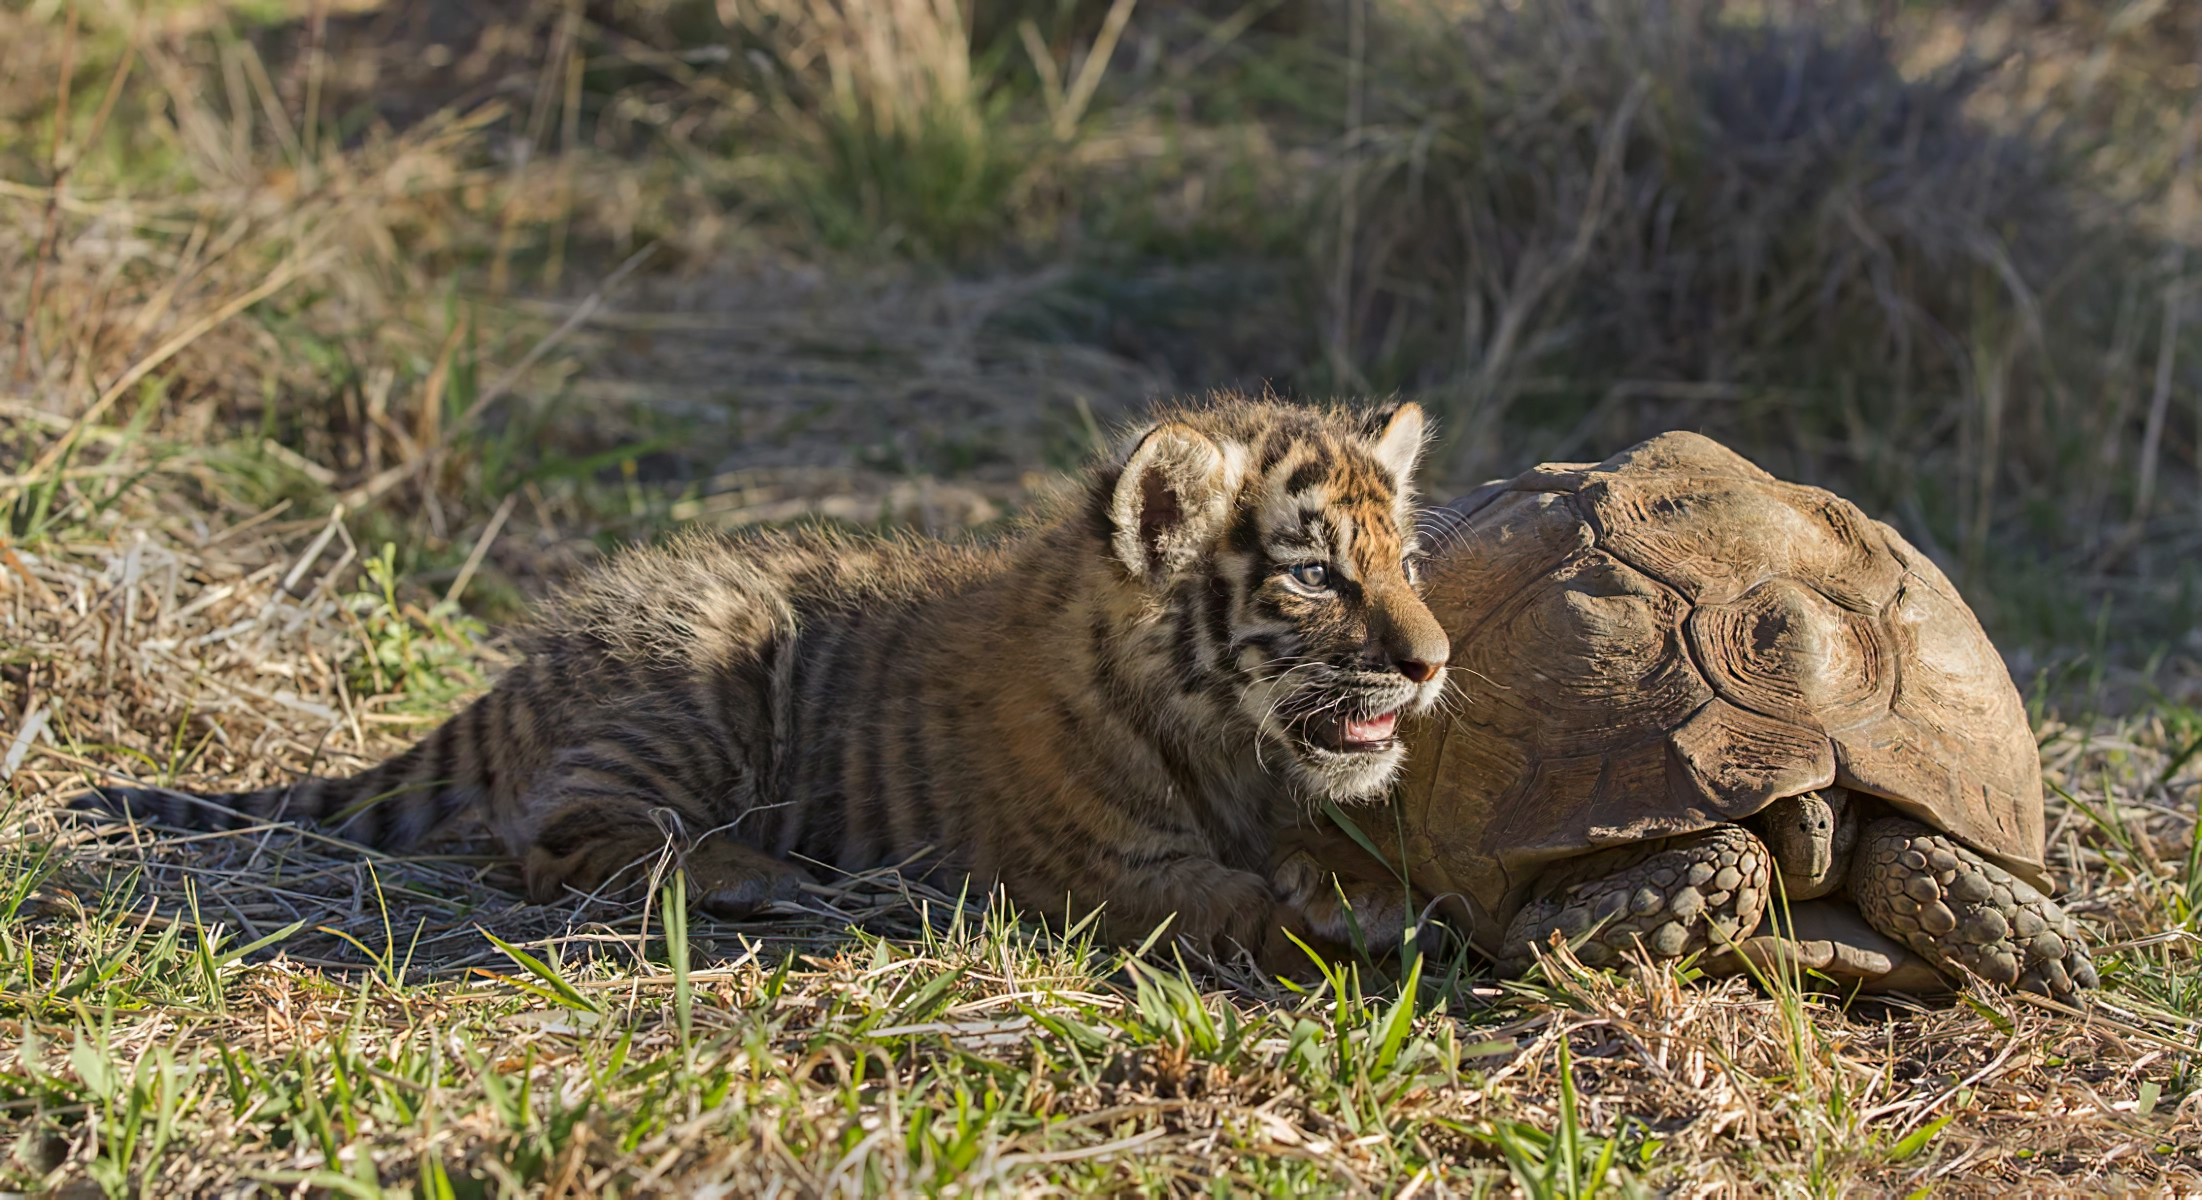tiger: (399, 364, 1494, 978)
